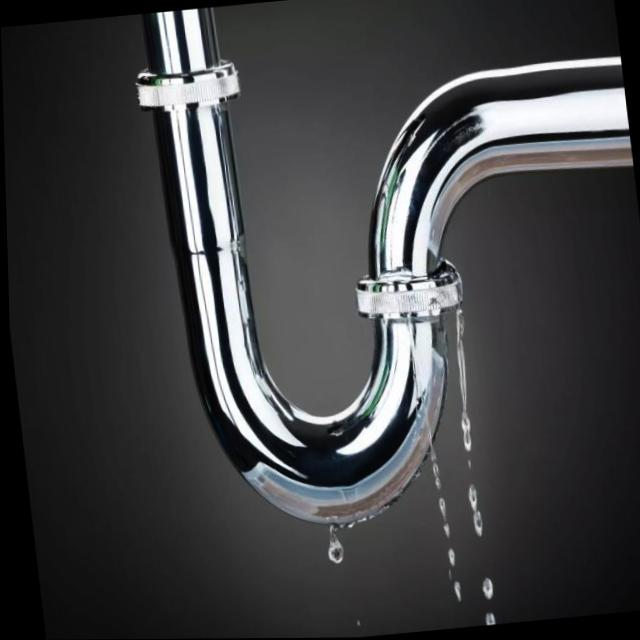leak: (299, 274, 512, 621)
